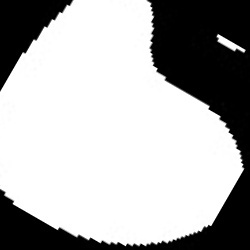spot: (1, 1, 243, 246)
